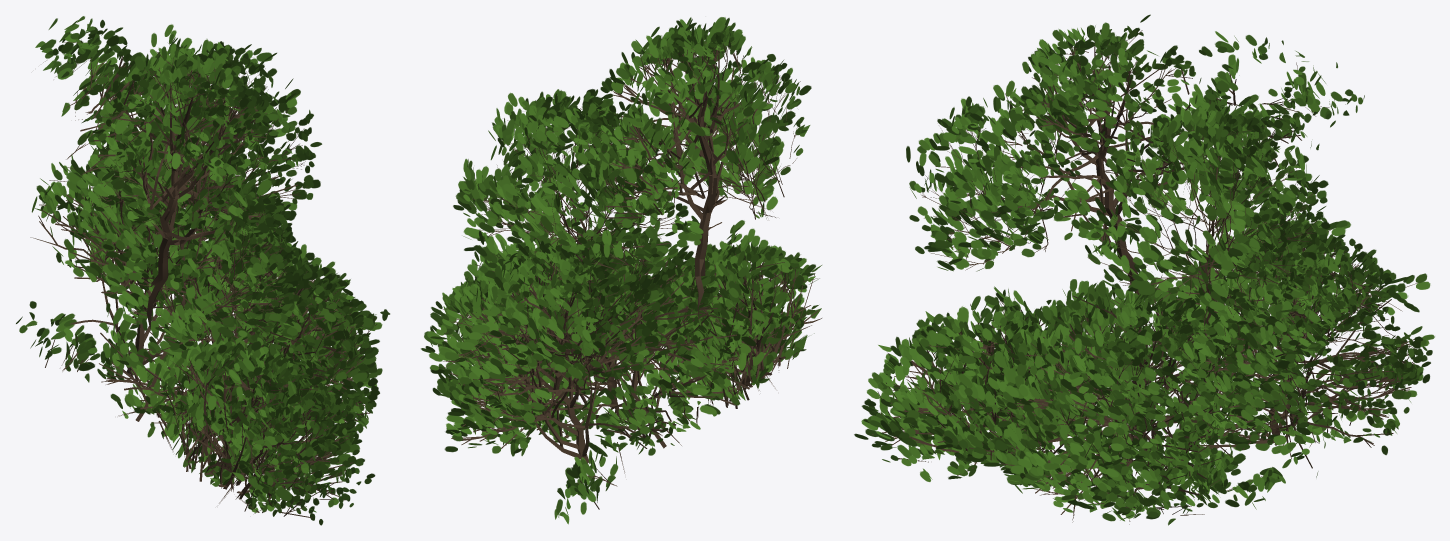
3 views of the same model, side by side, from view 1: azimuth 30°, elevation 25°; view 2: azimuth 150°, elevation 25°; view 3: azimuth 270°, elevation 25° (orthographic). The views are drawn at different scales.
Parts seen in each view (by area): view 1: oak 01.001_trunk_Mat.001_0.312; view 2: oak 01.001_trunk_Mat.001_0.312; view 3: oak 01.001_trunk_Mat.001_0.312.
Part boxes in pixels (left/top/right/bottom): oak 01.001_trunk_Mat.001_0.312: left=16, top=16, right=389, bottom=525; oak 01.001_trunk_Mat.001_0.312: left=421, top=17, right=821, bottom=524; oak 01.001_trunk_Mat.001_0.312: left=854, top=14, right=1434, bottom=525.
Bounding box in the file's own units: 2.69 × 4.33 × 5.28.
2 materials, 1 textured.
